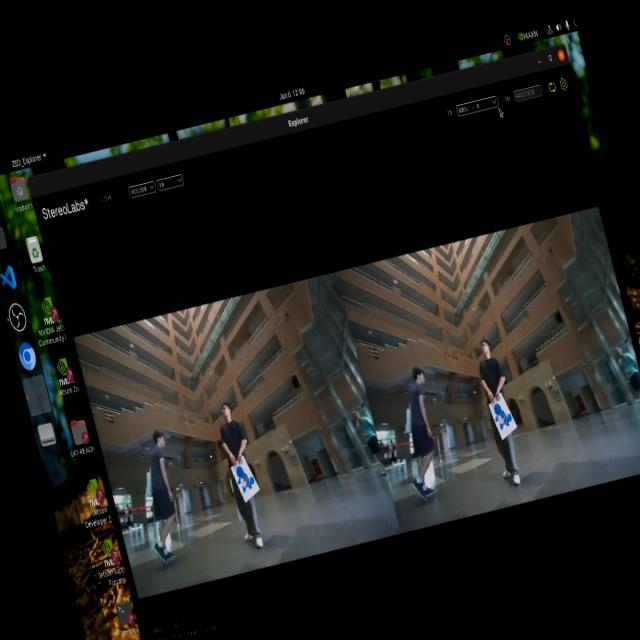blue: (233, 459, 260, 505), (488, 403, 516, 442)
